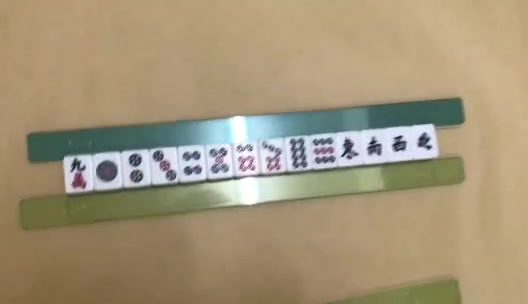1z: (97, 159, 118, 183), (339, 137, 359, 160)
2p: (129, 154, 144, 184)
2z: (367, 138, 382, 158)
3p: (153, 152, 176, 181)
3z: (393, 135, 407, 152)
4p: (183, 151, 202, 175)
4z: (417, 132, 433, 152)
5p: (208, 148, 228, 176)
6p: (236, 144, 255, 171)
7p: (260, 141, 281, 171)
8p: (289, 138, 308, 169)
9m: (69, 158, 88, 189)
9p: (312, 137, 334, 164)
